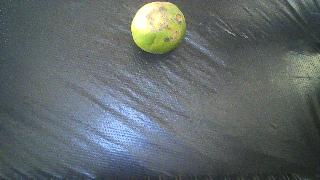DESECHO: (131, 2, 186, 54)
